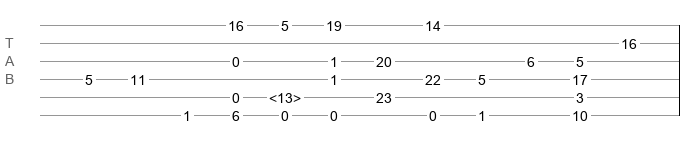0: (232, 90, 240, 100), (232, 54, 240, 64), (281, 108, 289, 118), (330, 108, 338, 118), (429, 108, 437, 118)
1: (183, 108, 191, 118), (330, 54, 338, 64), (330, 72, 338, 82), (478, 108, 486, 118)
10: (572, 108, 588, 118)
11: (130, 72, 146, 82)
14: (425, 18, 441, 28)
16: (228, 18, 244, 28), (621, 36, 637, 46)
17: (572, 72, 588, 82)
19: (326, 18, 342, 28)
20: (376, 54, 392, 64)
22: (425, 72, 441, 82)
23: (376, 90, 392, 100)
3: (576, 90, 584, 100)
5: (85, 72, 93, 82), (281, 18, 289, 28), (478, 72, 486, 82), (576, 54, 584, 64)
6: (232, 108, 240, 118), (527, 54, 535, 64)
harmonic: (269, 90, 301, 100)
